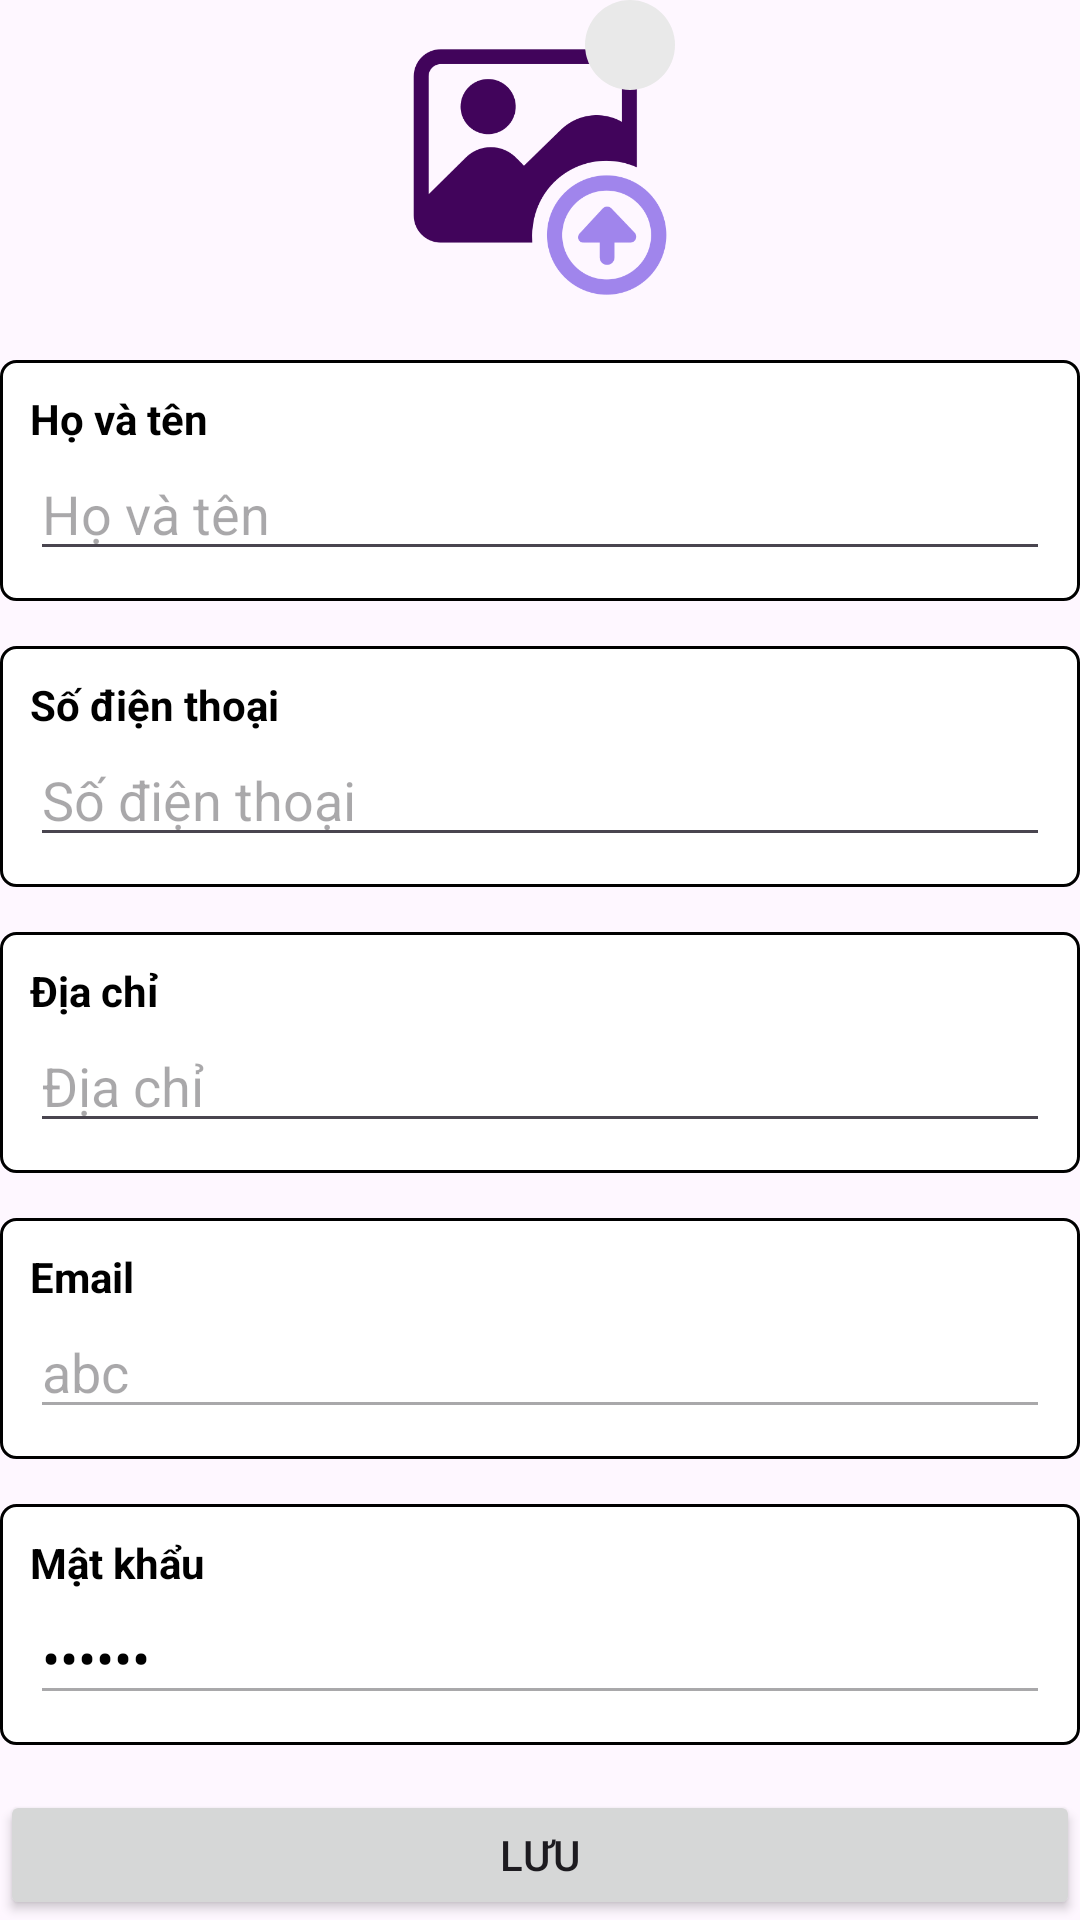

Icons on this 1080*1920 Android screen, each with the point to tap as (x,y):
upload: (540,172)
